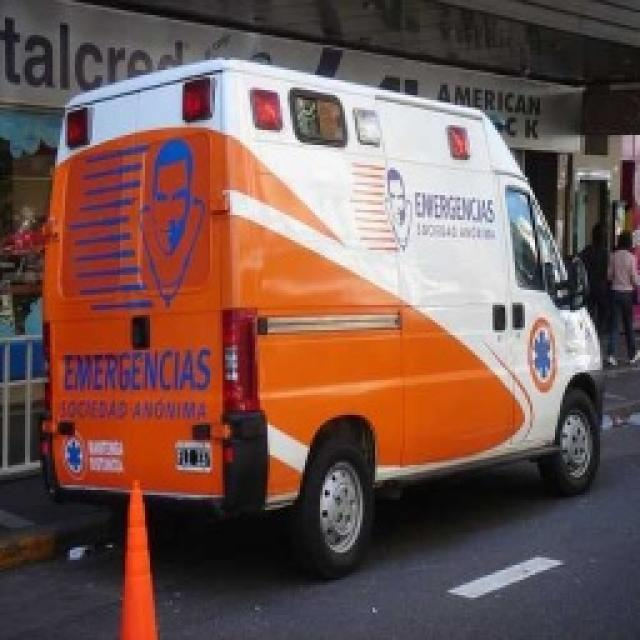emergency-vehicle: (28, 67, 606, 542)
